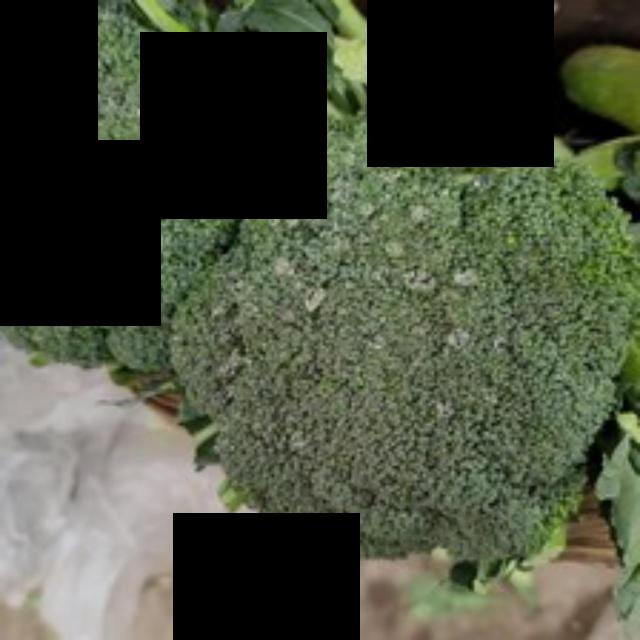broccoli: (151, 88, 637, 554)
